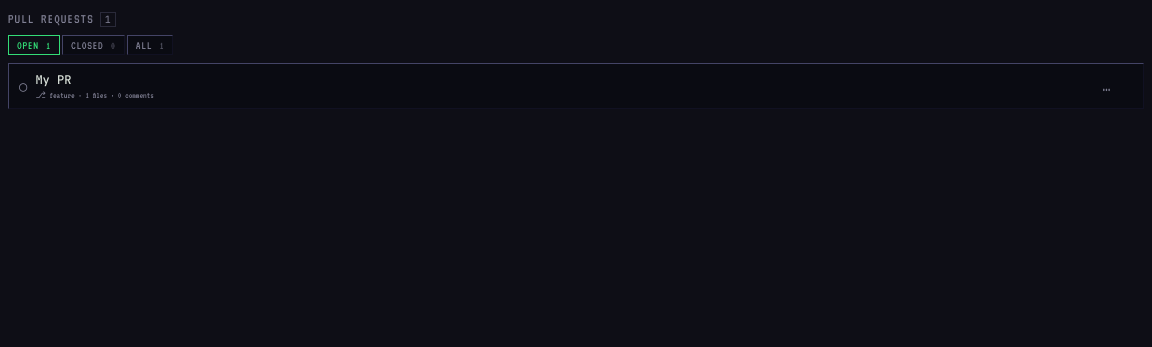
PRList component › passes issueStatus to PRDetail when issue is in review
The width and height of the screenshot is (1152, 347).
Click the text "My PR" at (53,80), box [35,72,71,88]
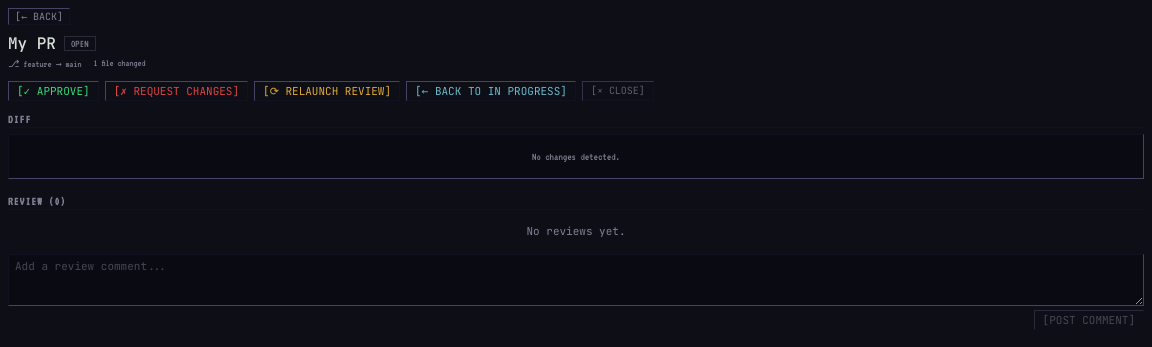
Result: the button "[← BACK TO IN PROGRESS]" is shown at [406,81,576,101]
